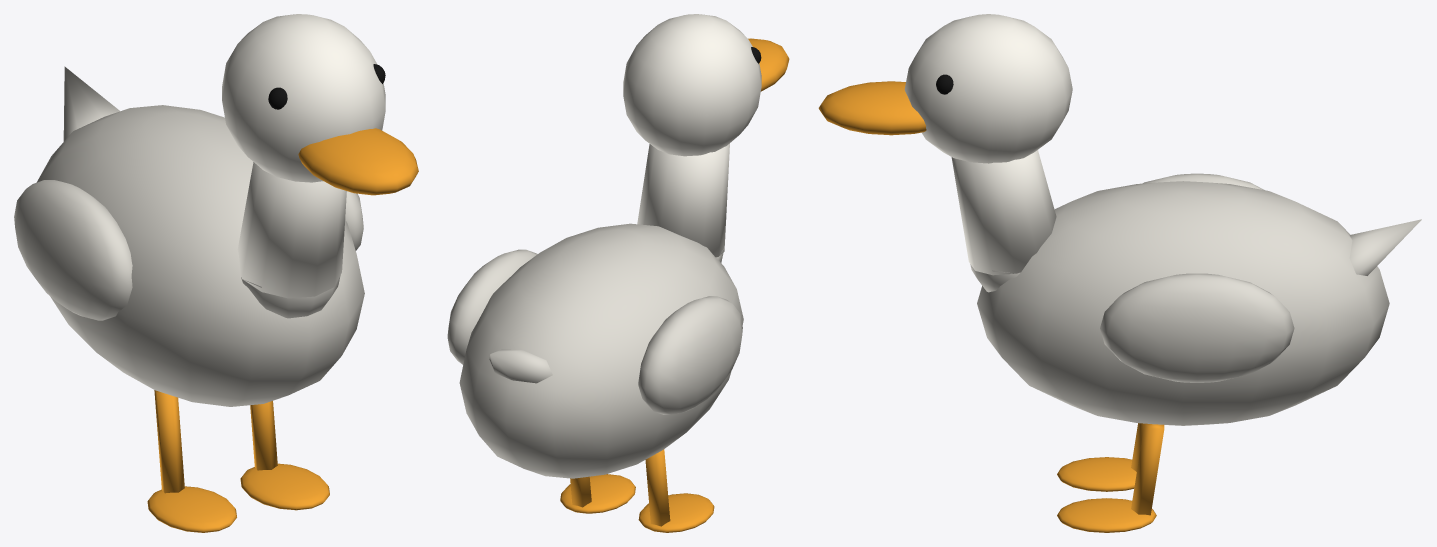
The model's file is duck_white.glb.
3 renders of one model, left to right at view 1: azimuth 30°, elevation 25°; view 2: azimuth 150°, elevation 25°; view 3: azimuth 270°, elevation 25°, orthographic. The views are drawn at different scales.
Parts seen in each view (by area): view 1: Body, Head; view 2: Body, Head; view 3: Body, Head.
Part boxes in pixels (bbox=[...]): Body: bbox=[14, 66, 364, 532]; Head: bbox=[222, 14, 418, 318]; Body: bbox=[447, 223, 743, 532]; Head: bbox=[623, 14, 789, 262]; Body: bbox=[977, 173, 1421, 532]; Head: bbox=[818, 14, 1072, 292].
Bounding box in the file's own units: 0.219 × 0.383 × 0.4346.
